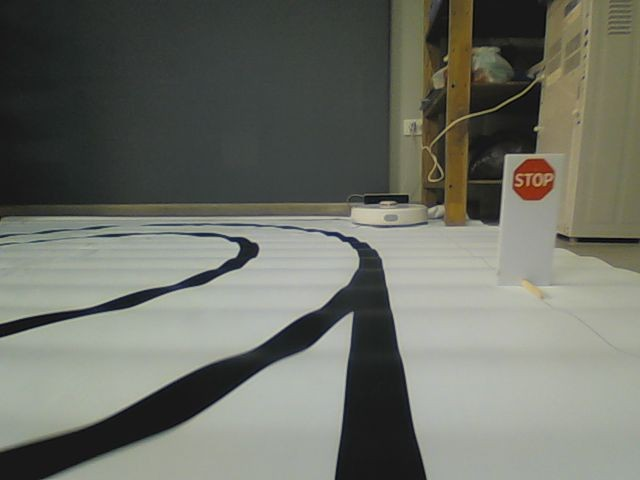Stop: (512, 156, 556, 202)
